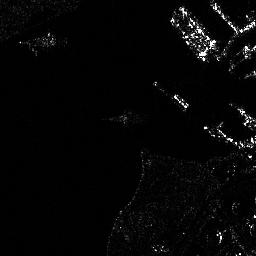ship: (170, 14, 207, 63), (176, 4, 215, 50), (151, 79, 190, 110)
